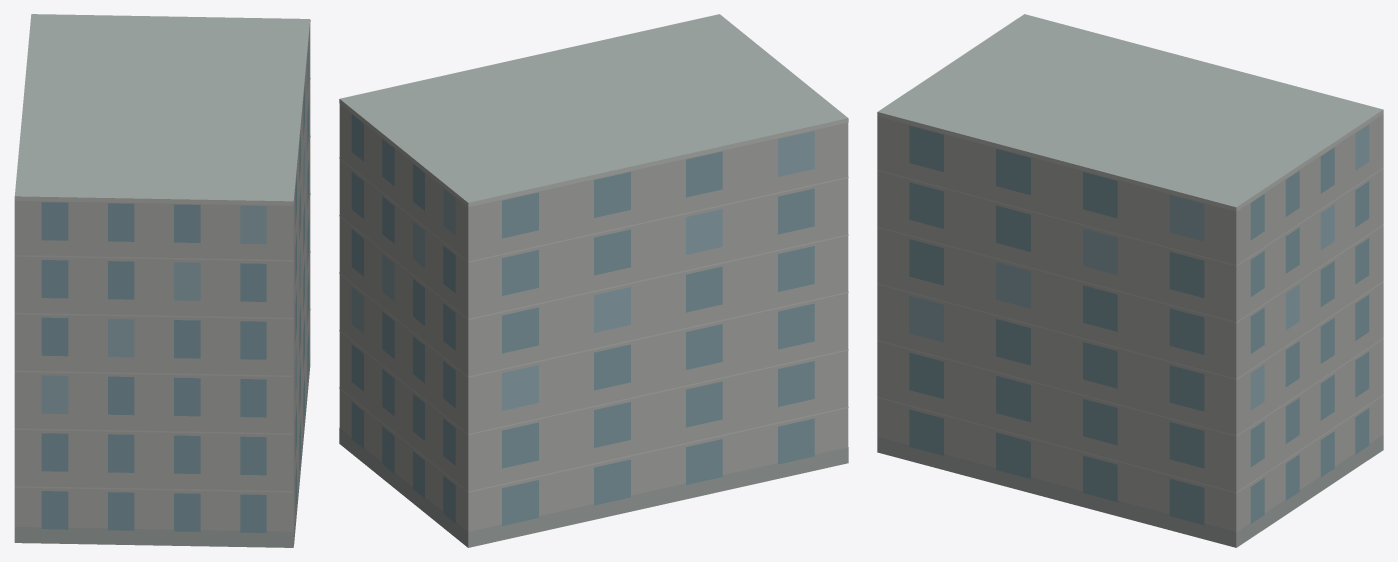
Rendered from survey-upis-32995919.glb.
The picture shows the model from 3 angles, left to right: view 1: azimuth 30°, elevation 25°; view 2: azimuth 150°, elevation 25°; view 3: azimuth 270°, elevation 25°; orthographic projection.
Visible parts, largest first — view 1: survey-upis-32995919.tmp; view 2: survey-upis-32995919.tmp; view 3: survey-upis-32995919.tmp.
Boxes of the visible parts, box(x1,y1,x2,y2) form: survey-upis-32995919.tmp: box(14, 14, 310, 547); survey-upis-32995919.tmp: box(339, 14, 848, 547); survey-upis-32995919.tmp: box(877, 14, 1383, 547).
Size of the model in its own units: 23.04 by 18.9 by 25.48.
